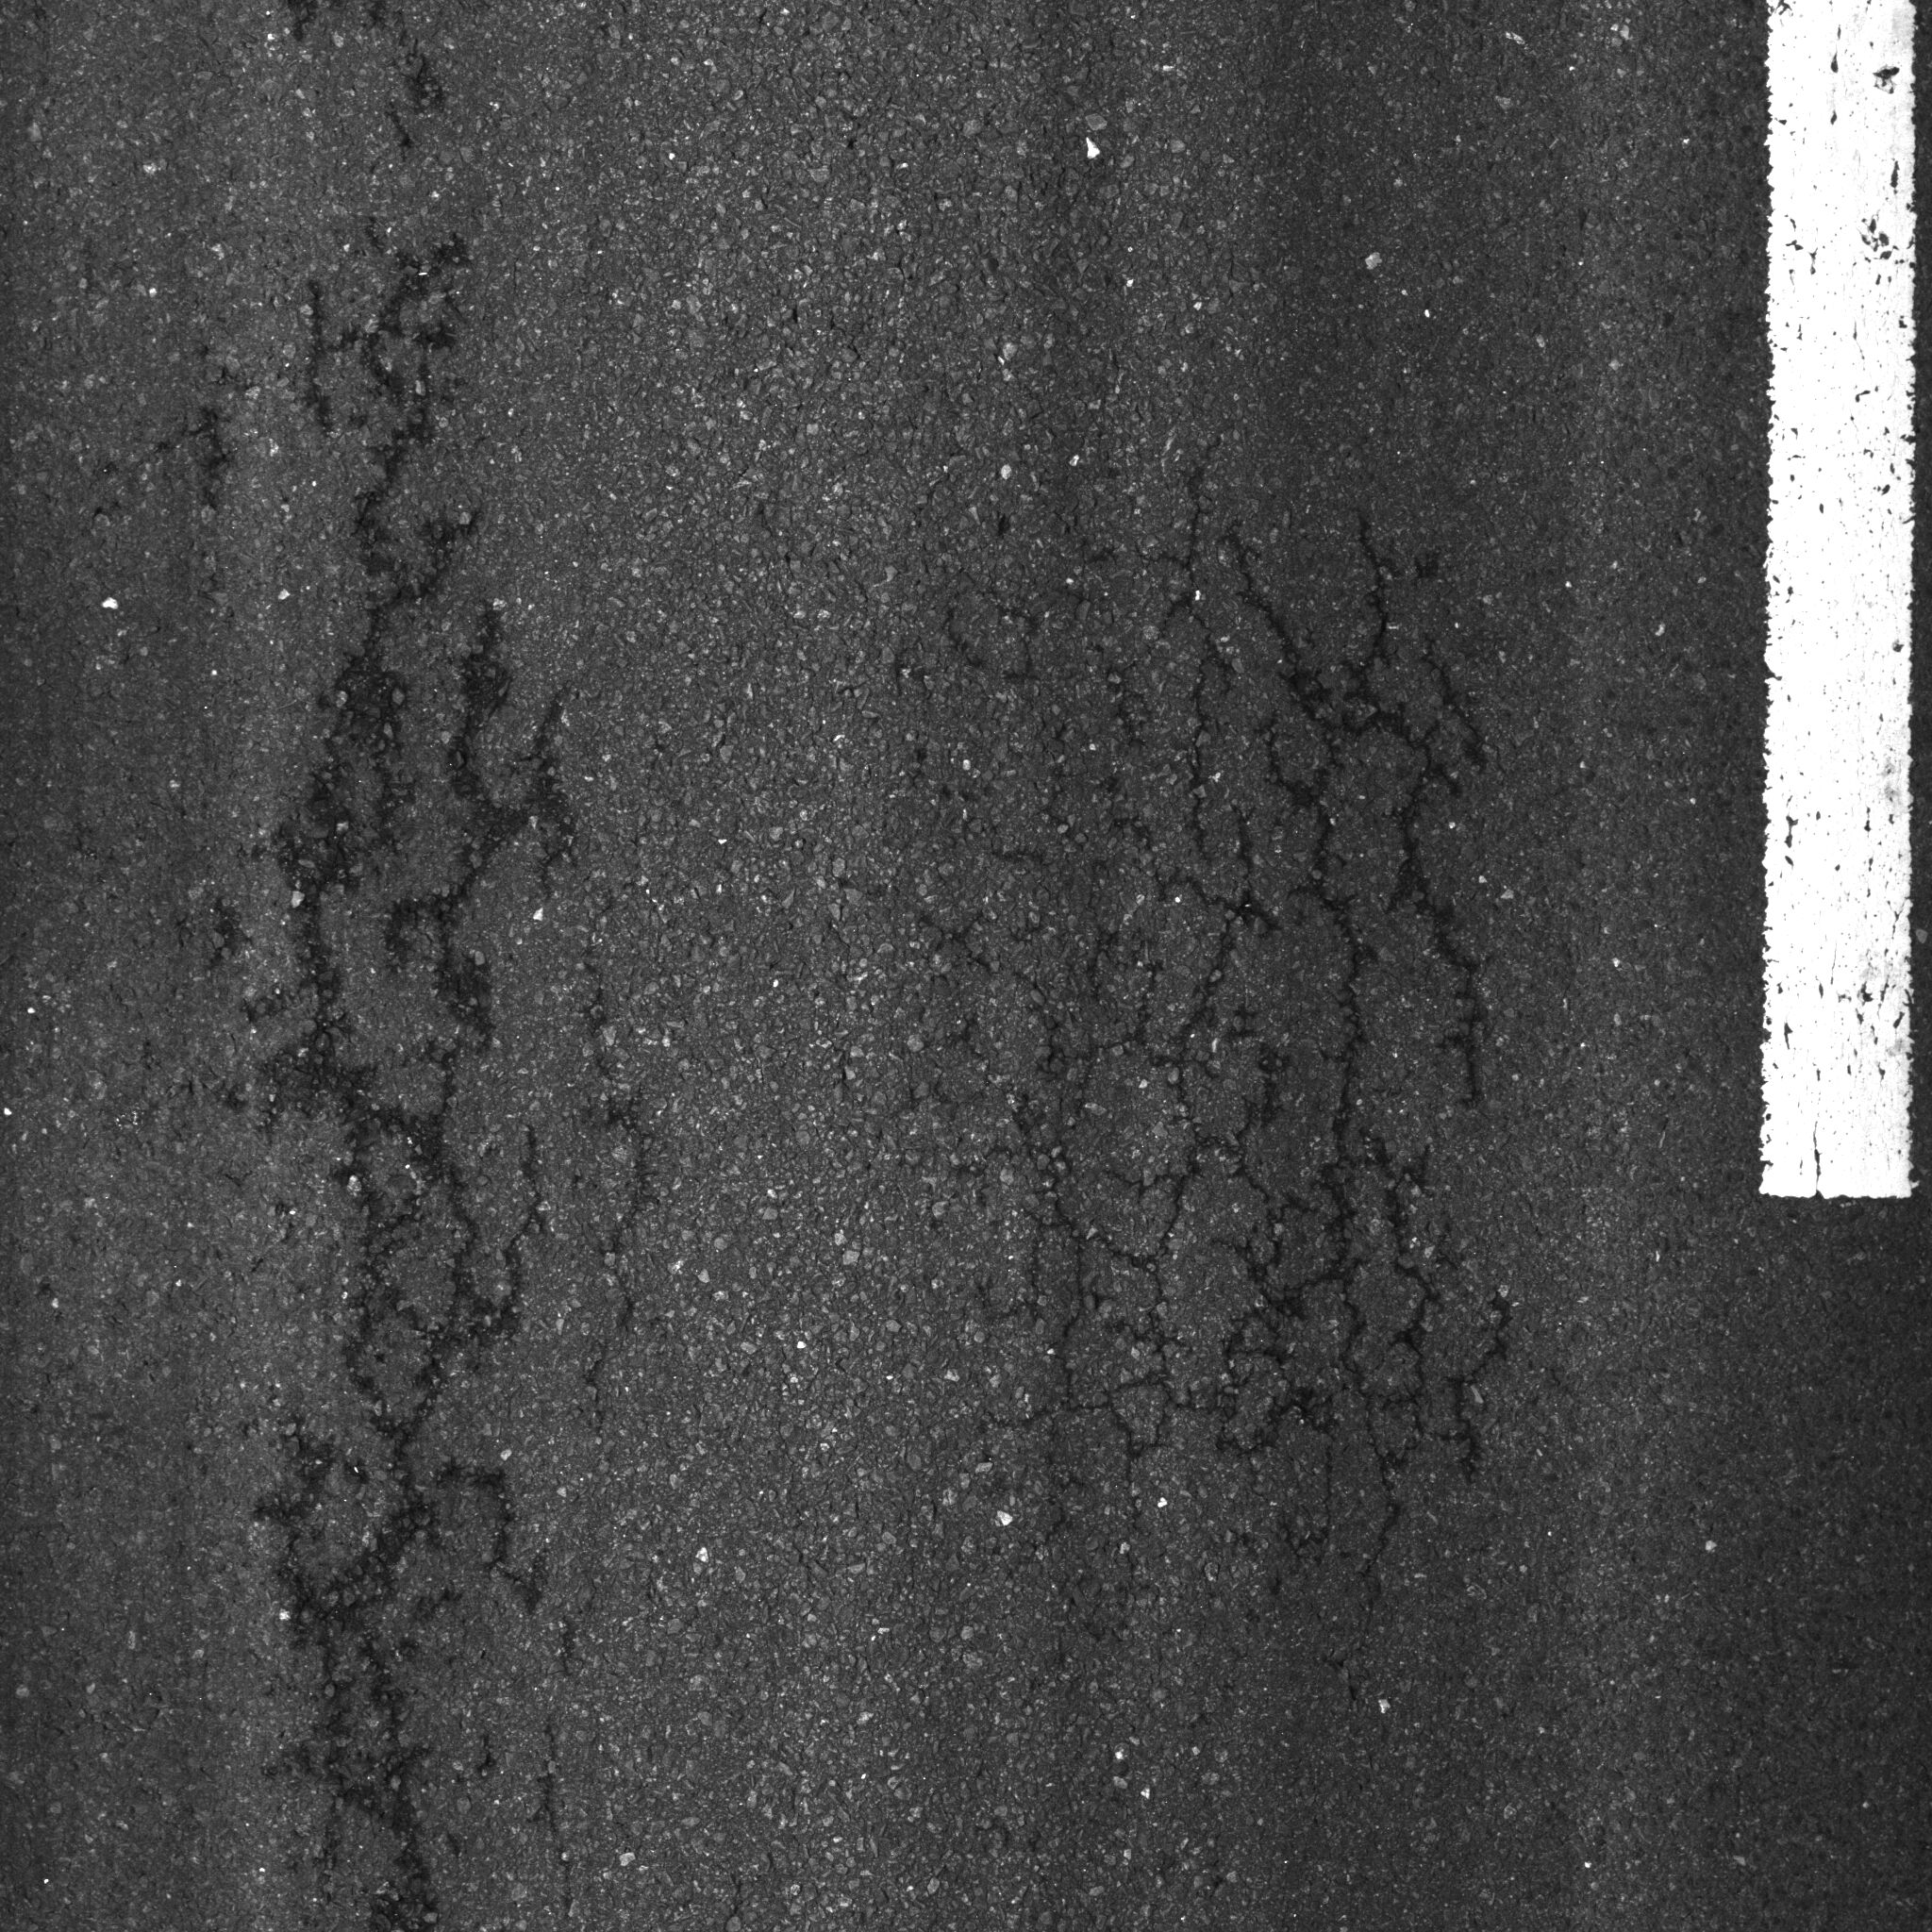alligator: (166, 225, 662, 1932), (870, 425, 1559, 1624)
